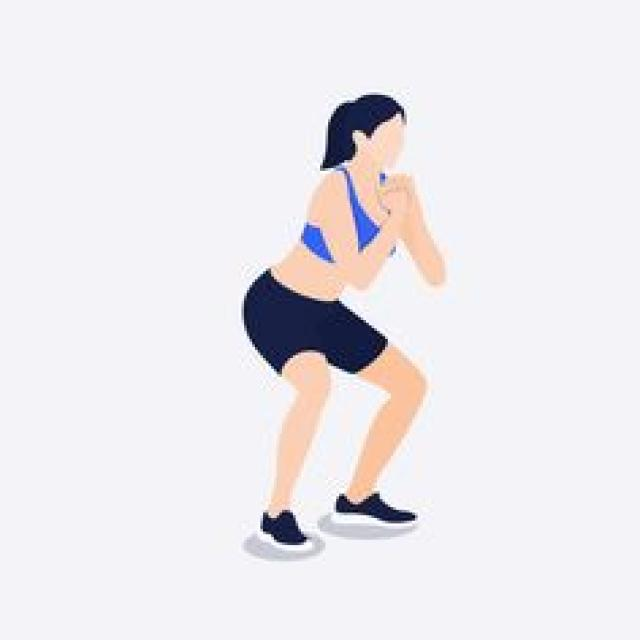squat: (232, 84, 451, 561)
